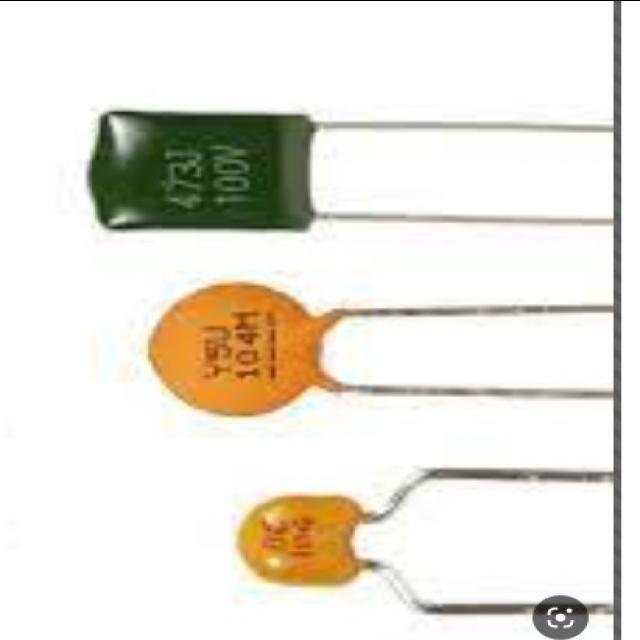Capacitor: (89, 111, 315, 228), (150, 284, 338, 415), (238, 496, 372, 584)
